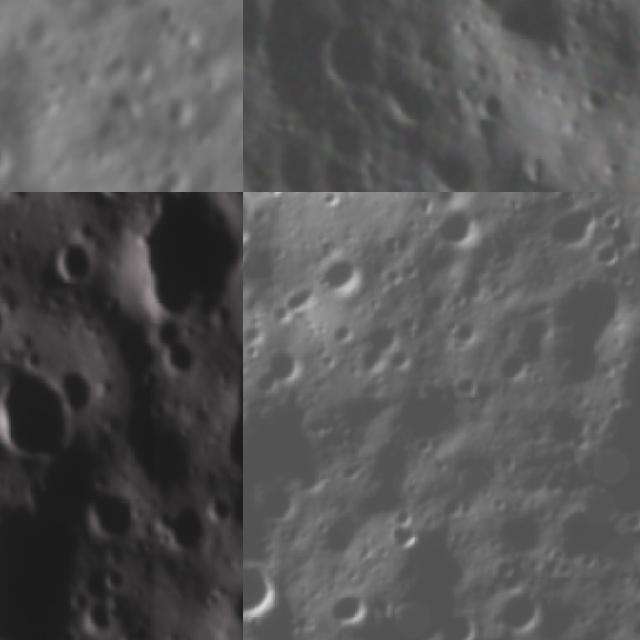crater: (529, 255, 640, 398), (136, 192, 243, 309), (243, 0, 348, 115), (0, 364, 90, 471), (321, 17, 393, 93), (533, 192, 612, 261), (243, 546, 300, 640), (485, 573, 564, 640), (243, 335, 316, 406), (486, 0, 565, 62), (309, 238, 378, 308), (425, 192, 499, 257), (73, 477, 140, 542), (152, 310, 209, 382), (315, 577, 383, 637), (539, 394, 601, 456), (379, 74, 442, 130), (264, 138, 329, 192), (381, 501, 439, 559), (217, 356, 243, 479), (157, 494, 216, 544), (51, 232, 102, 286), (424, 599, 489, 640), (78, 591, 121, 640), (153, 87, 204, 128), (428, 152, 474, 192), (217, 572, 243, 635), (94, 550, 132, 592), (470, 86, 508, 124), (208, 485, 242, 524), (0, 130, 23, 177), (579, 84, 605, 118), (466, 0, 503, 9)
